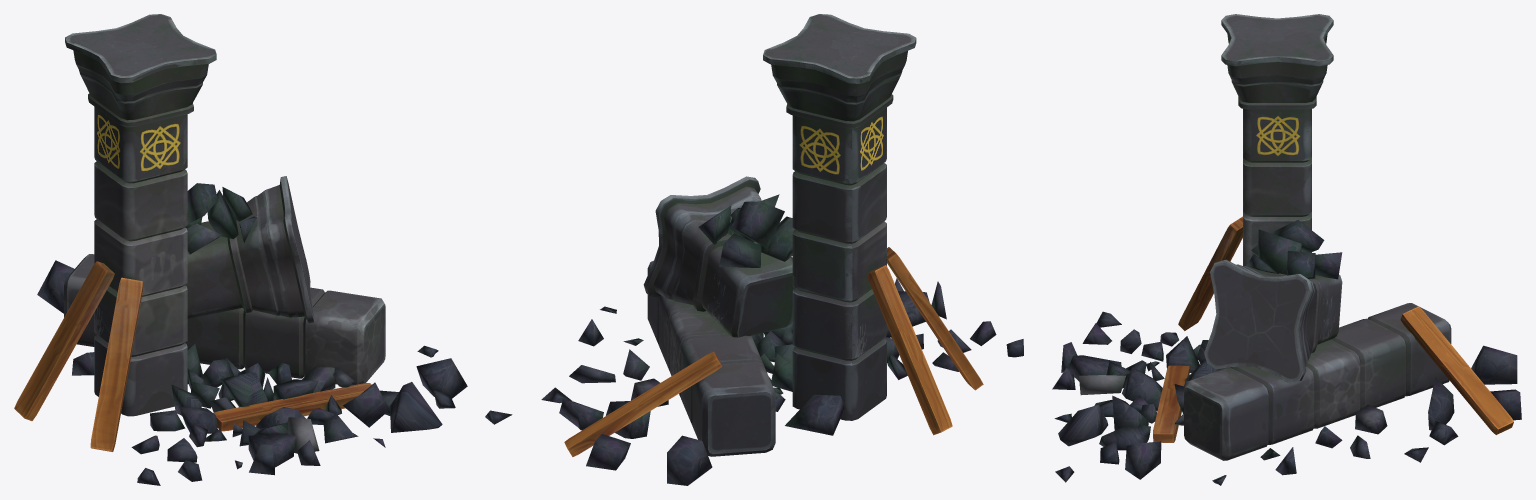
File: stylized_ruined_pillar.glb
3 renders of one model, left to right at view 1: azimuth 30°, elevation 25°; view 2: azimuth 150°, elevation 25°; view 3: azimuth 270°, elevation 25°, orthographic. The views are drawn at different scales.
Parts seen in each view (by area): view 1: Cube.419; view 2: Cube.419; view 3: Cube.419.
Boxes of the visible parts, x1,y1,x2,y2 form: Cube.419: (14,14,512,485); Cube.419: (541,14,1023,485); Cube.419: (1052,14,1521,485).
Size of the model in its own units: 7.02 by 6.43 by 7.99.
Materials: 1 (1 with a texture image).
